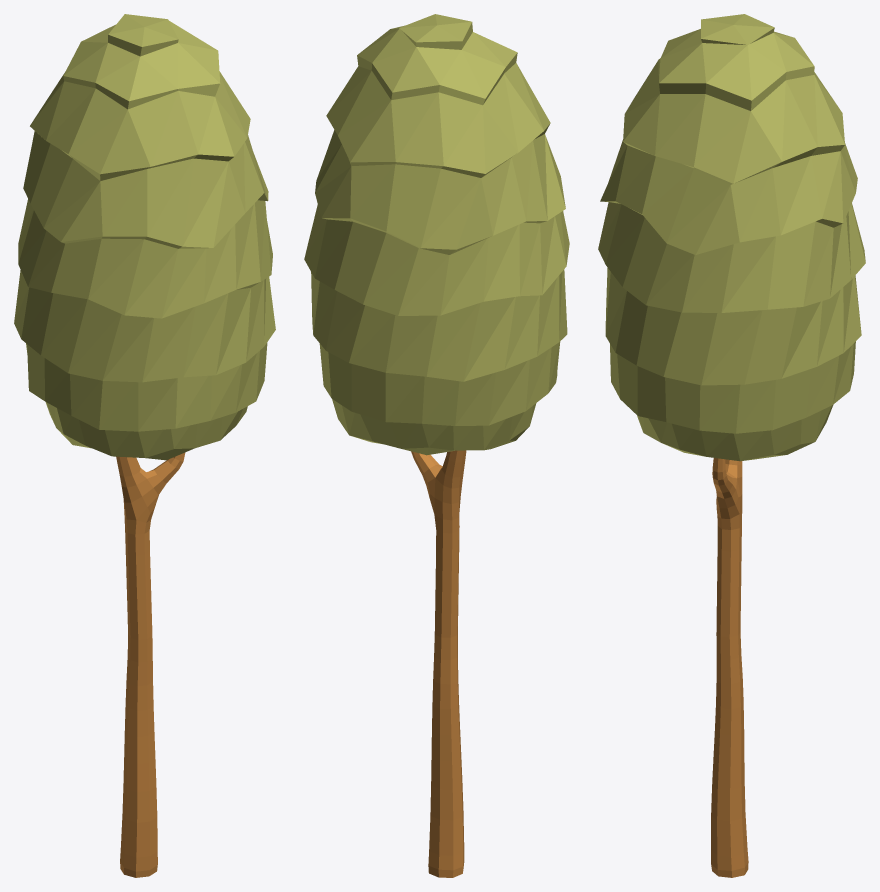
The model's file is TreeTall.glb.
3 views of the same model, side by side, from view 1: azimuth 30°, elevation 25°; view 2: azimuth 150°, elevation 25°; view 3: azimuth 270°, elevation 25° (orthographic).
Parts seen in each view (by area): view 1: TreeTallTop, TreeTallStem; view 2: TreeTallTop, TreeTallStem; view 3: TreeTallTop, TreeTallStem.
Part boxes in pixels (bbox=[...]): TreeTallTop: bbox=[14, 14, 275, 460]; TreeTallStem: bbox=[116, 452, 185, 877]; TreeTallTop: bbox=[304, 14, 569, 455]; TreeTallStem: bbox=[411, 450, 466, 877]; TreeTallTop: bbox=[598, 14, 865, 461]; TreeTallStem: bbox=[711, 458, 748, 877].
Bounding box in the file's own units: 1.9 × 6.77 × 1.94.
Materials: 2 (2 with a texture image).
